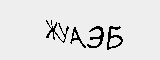А: (68, 26, 86, 49)
Б: (106, 25, 126, 51)
Ж: (42, 19, 61, 43)
У: (57, 20, 69, 44)
Э: (86, 26, 105, 50)
